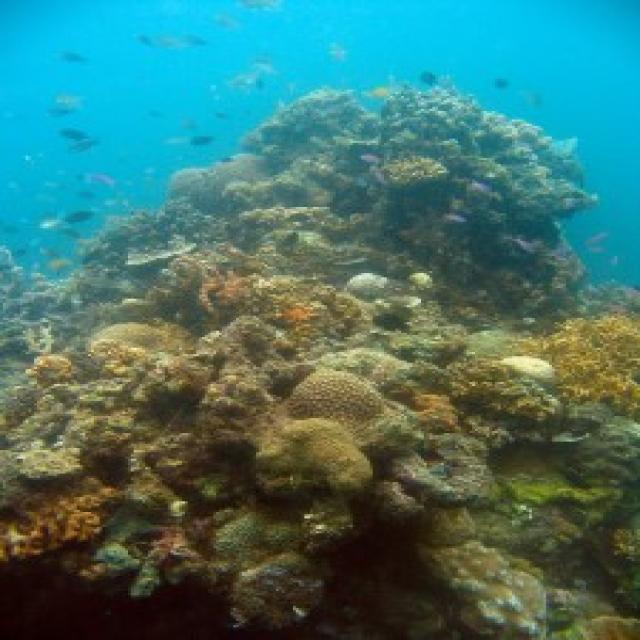Healthy: (1, 91, 578, 639), (522, 319, 638, 419)
